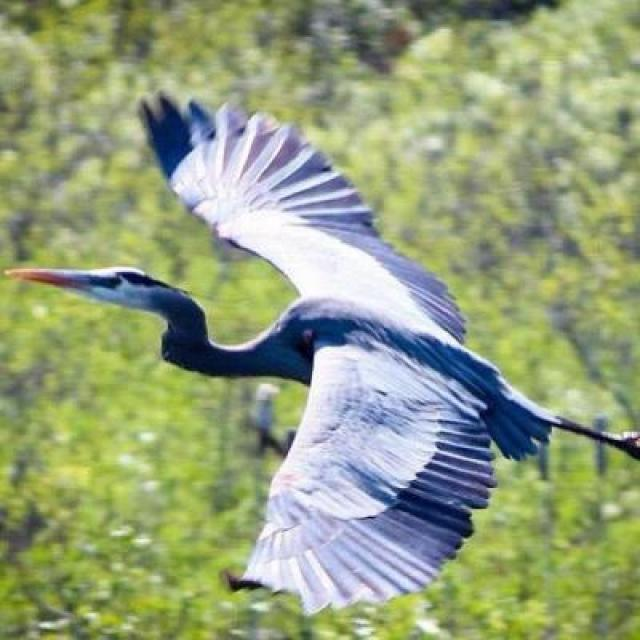birds: (0, 76, 640, 629)
